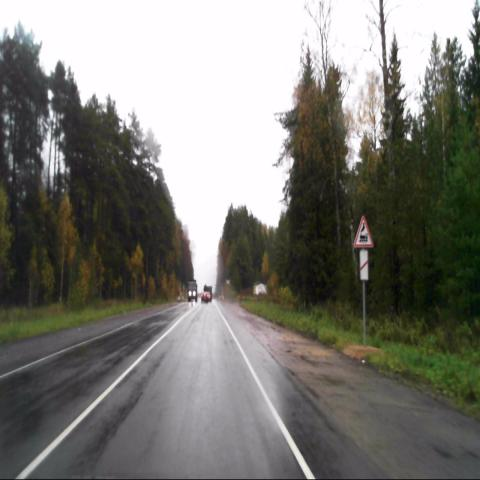1_2: (354, 214, 374, 248)
